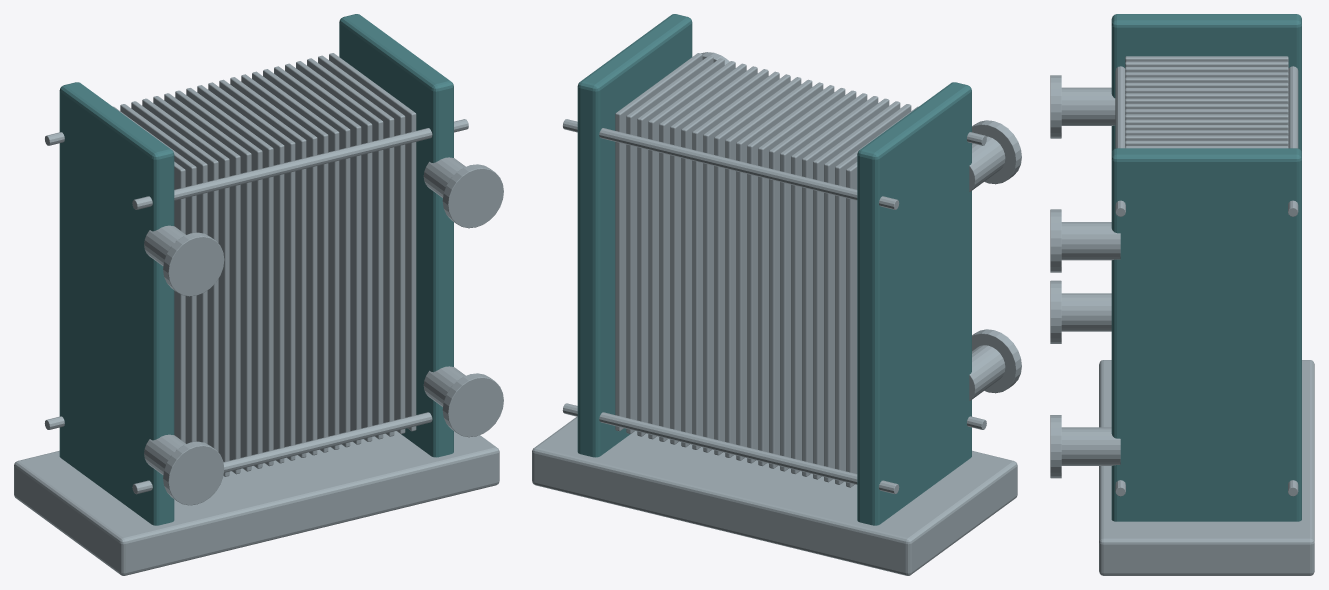
The model's file is RD_PlateHeatExchanger.fbx.
The picture shows the model from 3 angles, left to right: view 1: azimuth 30°, elevation 25°; view 2: azimuth 150°, elevation 25°; view 3: azimuth 270°, elevation 25°; orthographic projection.
Parts seen in each view (by area): view 1: RD_PlateHeatExchanger; view 2: RD_PlateHeatExchanger; view 3: RD_PlateHeatExchanger.
Part boxes in pixels (x1,y1,x2,y2): RD_PlateHeatExchanger: [14, 14, 503, 575]; RD_PlateHeatExchanger: [532, 14, 1021, 575]; RD_PlateHeatExchanger: [1050, 14, 1314, 575].
Bounding box in the file's own units: 190 × 196 × 116.
